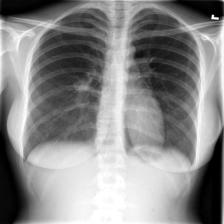normal: (18, 4, 202, 171)
